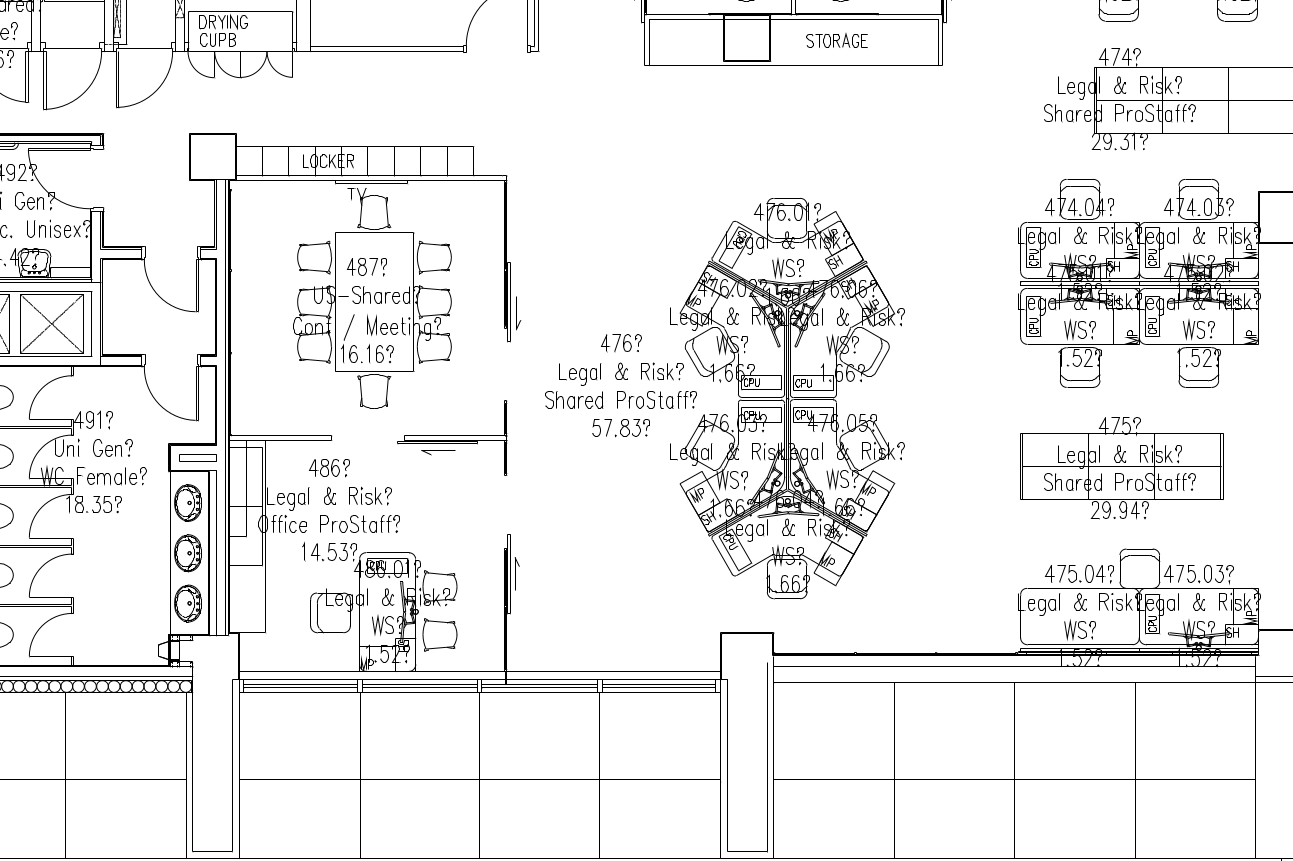door: (26, 145, 105, 211), (39, 50, 104, 116), (110, 48, 175, 114), (137, 366, 201, 425), (139, 259, 203, 318), (240, 50, 297, 91), (28, 373, 73, 421), (28, 432, 73, 480), (25, 493, 70, 541), (27, 552, 72, 600), (25, 611, 70, 659)
